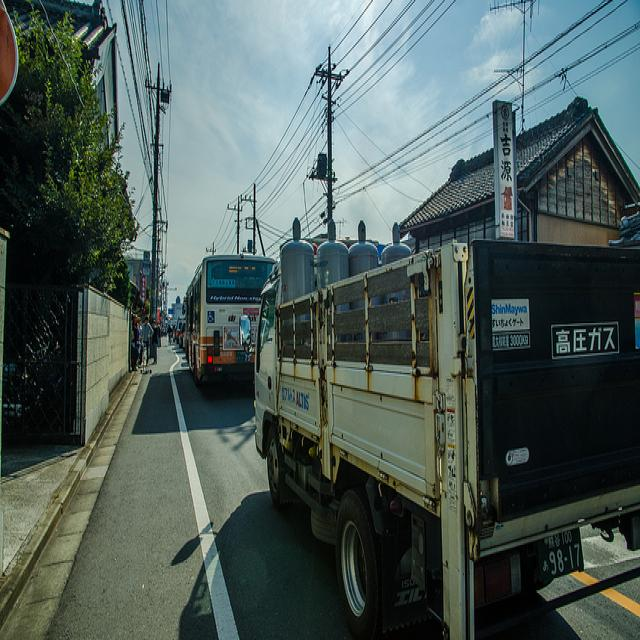Vehicle: (252, 212, 640, 633), (184, 256, 281, 396)
